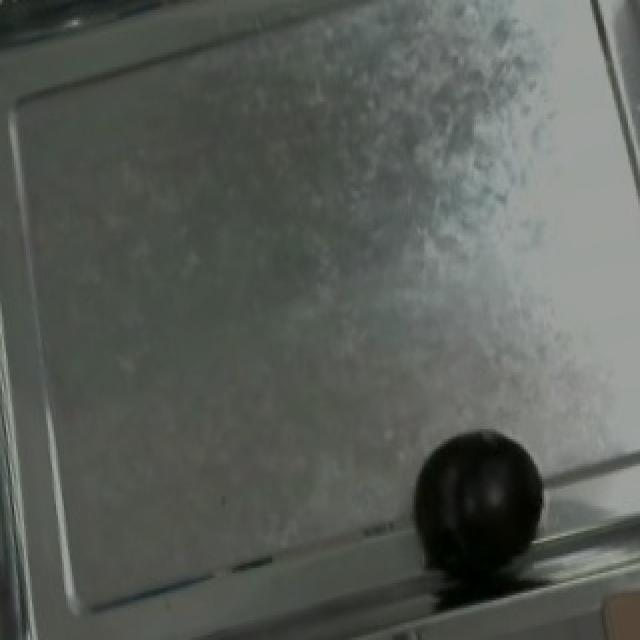Fruit: (396, 412, 560, 595), (584, 563, 640, 640)
